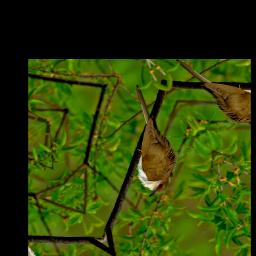Cuckoo: (89, 82, 200, 201)
